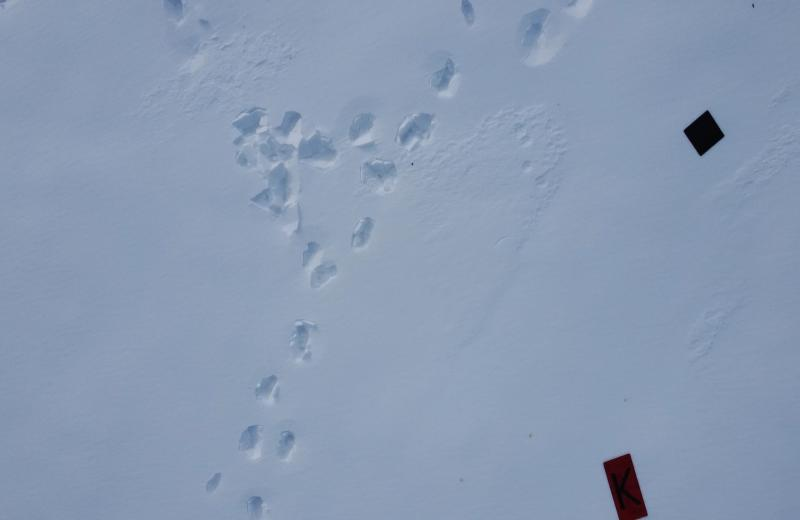Rectangle: (600, 452, 650, 520)
Square: (685, 110, 726, 157)
